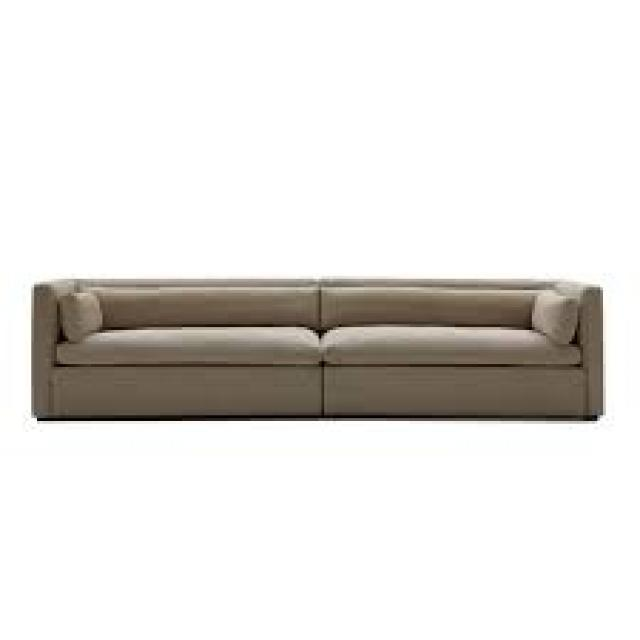Sofa: (10, 246, 626, 464)
